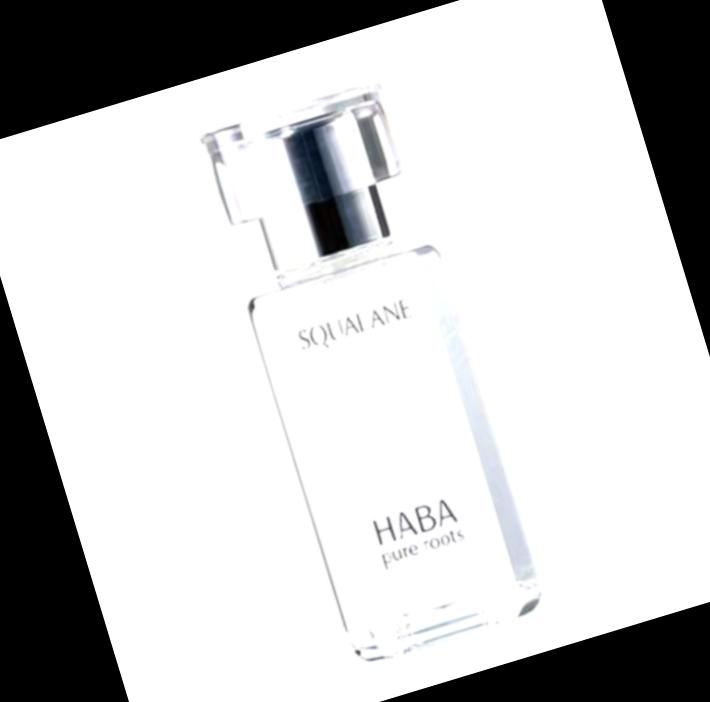cosmetic: (192, 75, 548, 666)
